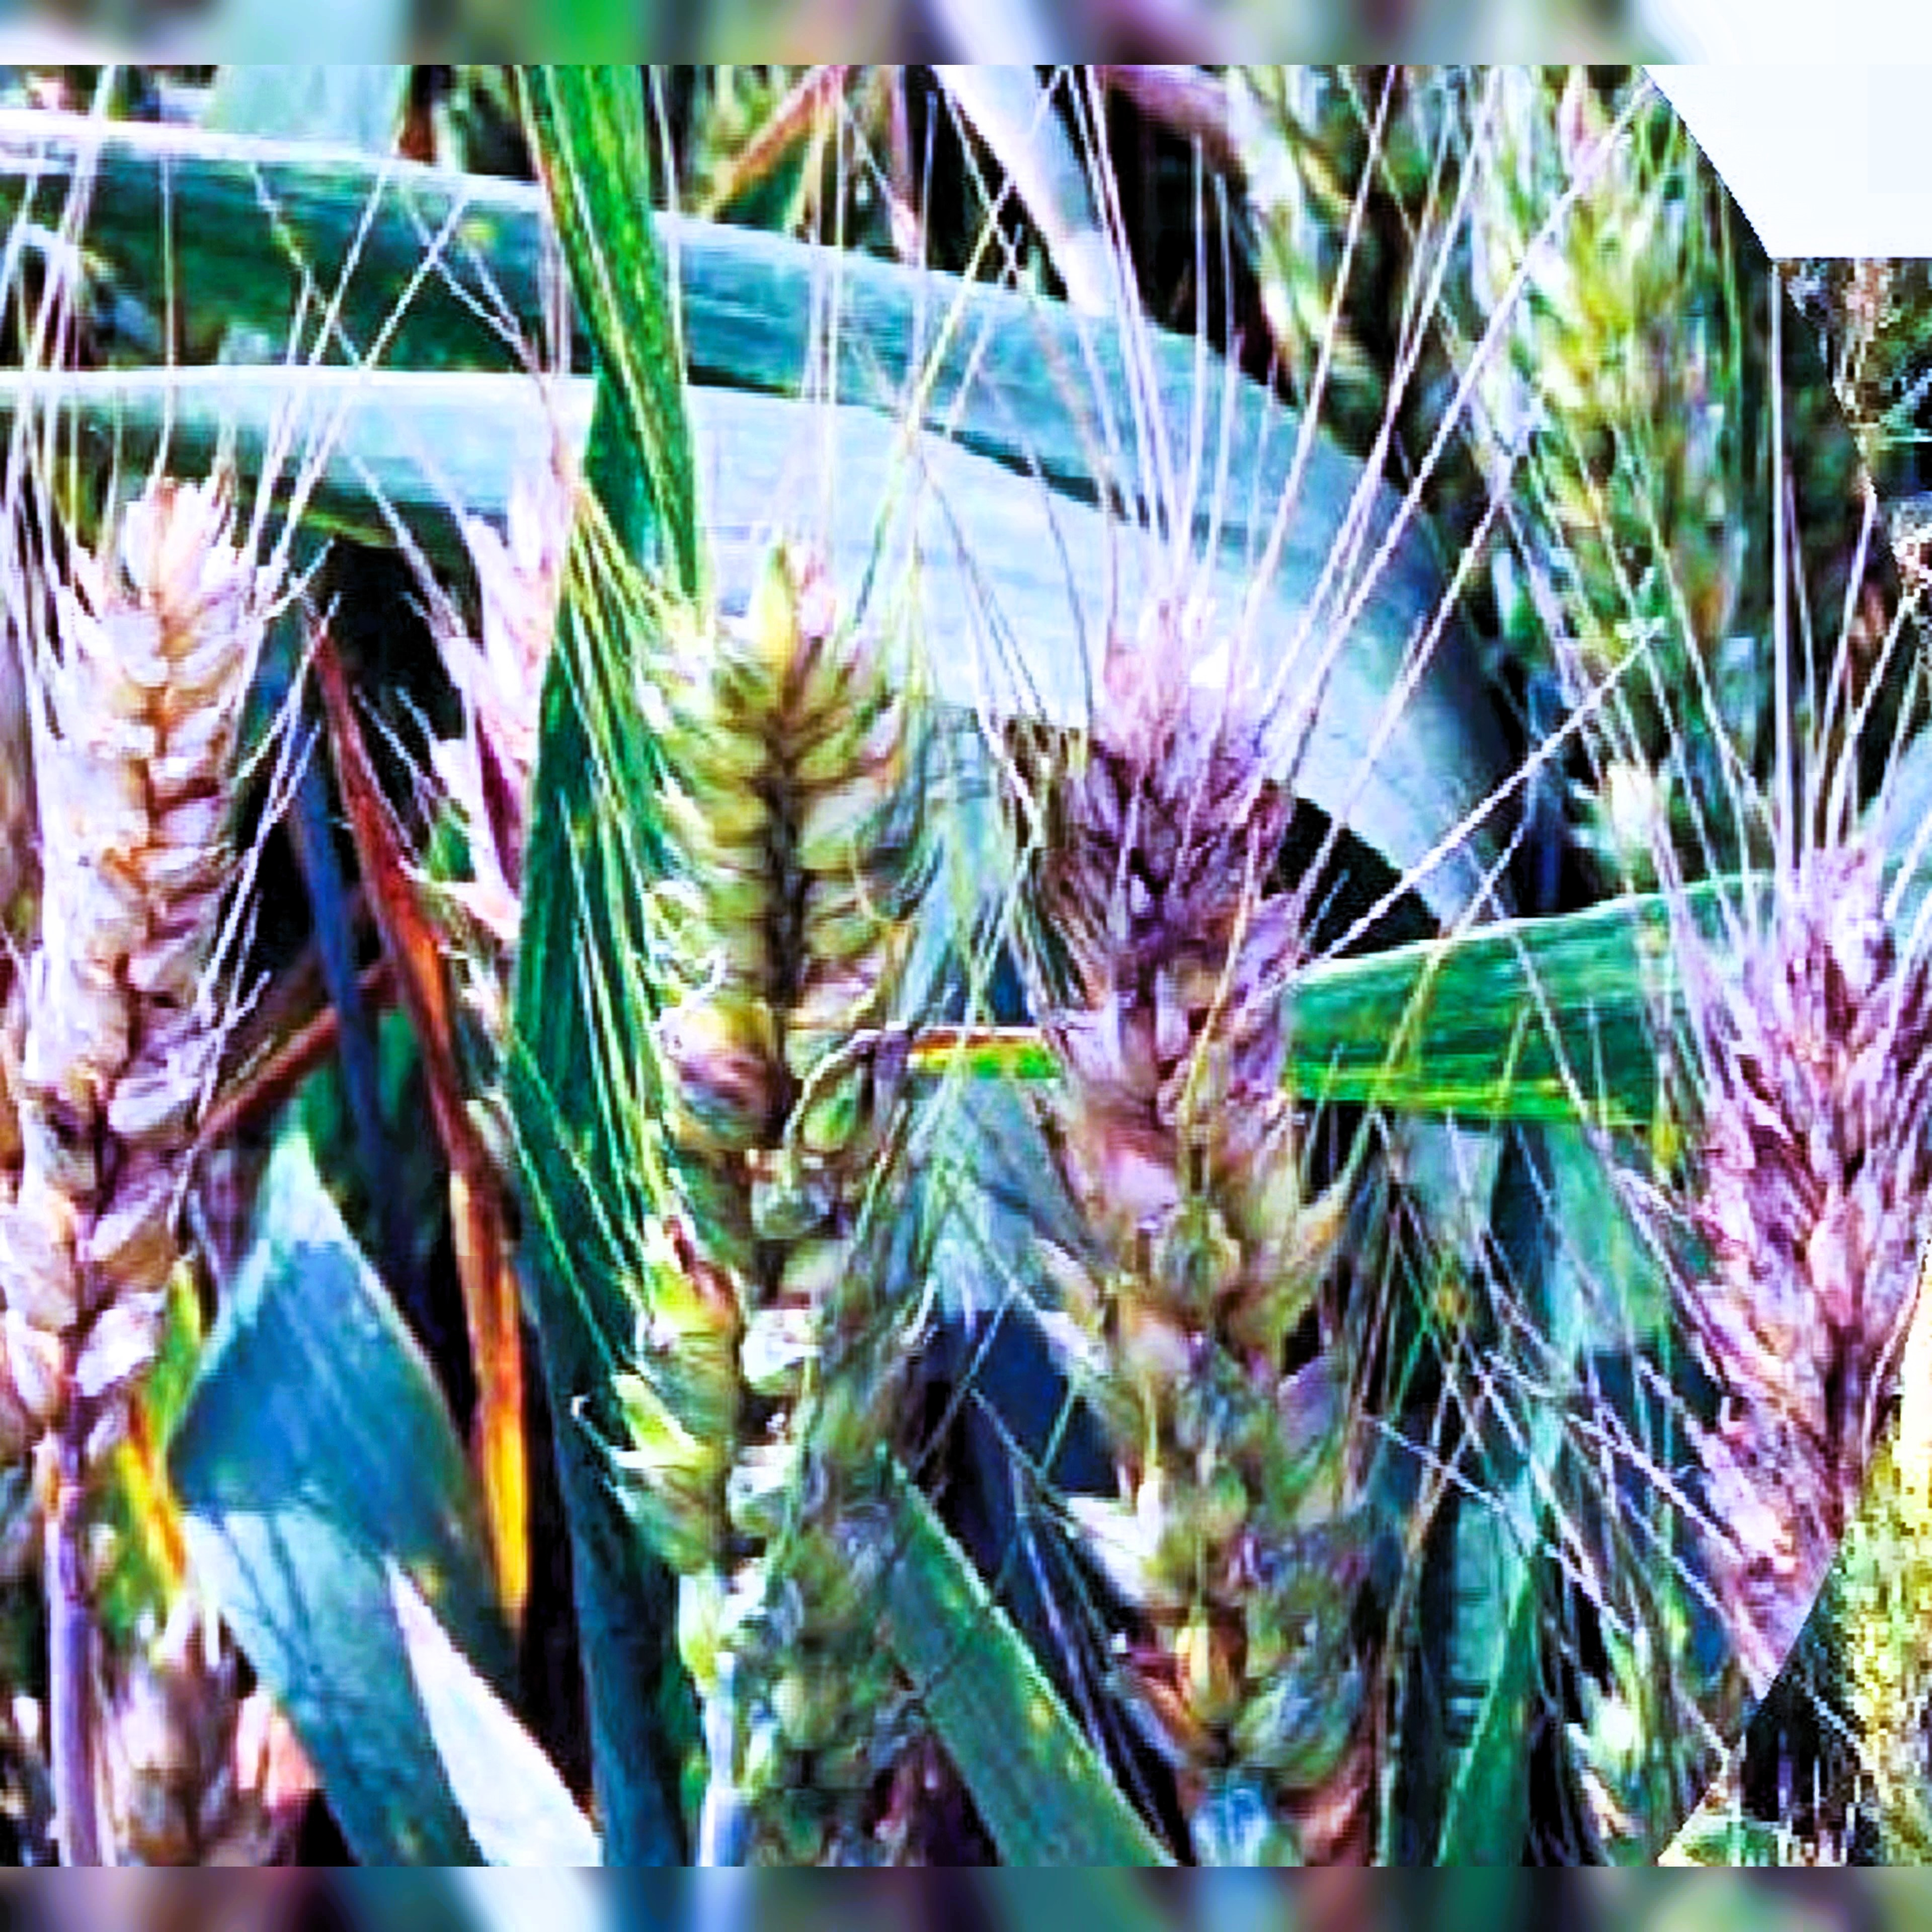Wheat scab: (1031, 722, 1378, 1421)
